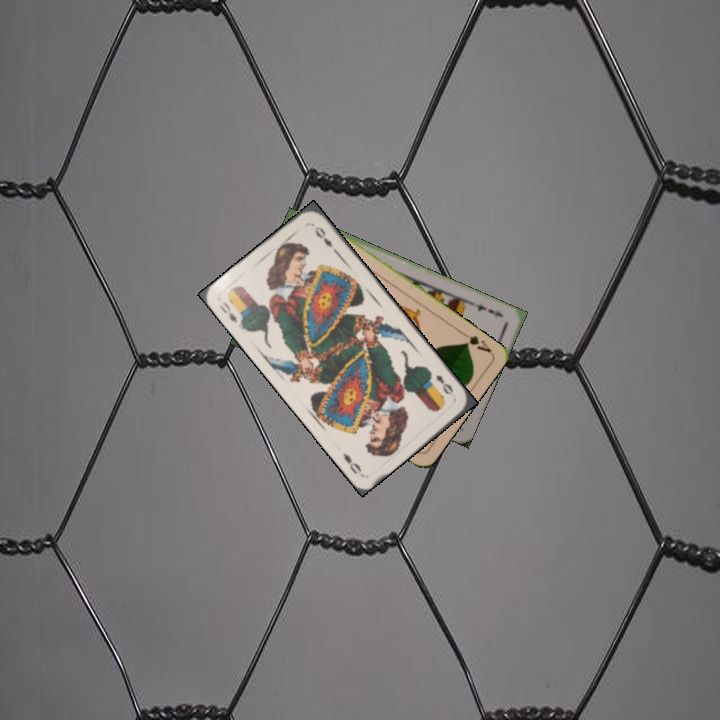E7: (470, 299, 506, 320)
EO: (216, 297, 240, 326), (431, 370, 456, 397)
GA: (458, 328, 494, 356)
